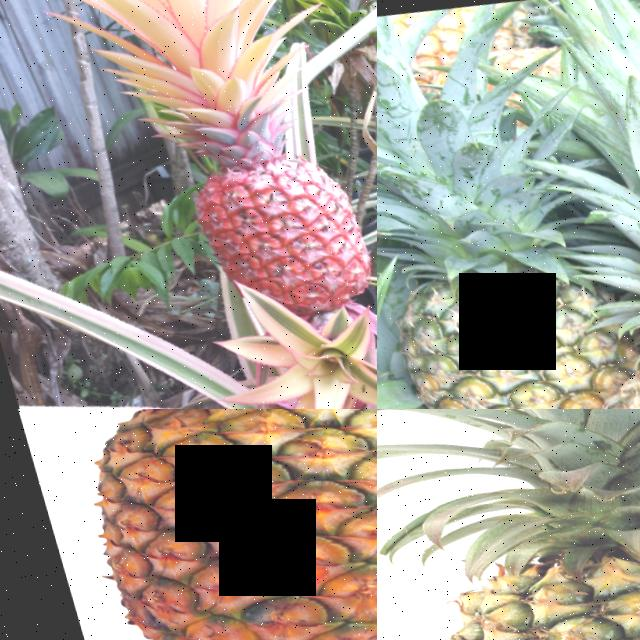pineapple: (3, 409, 377, 640), (377, 409, 640, 640), (377, 182, 615, 409), (158, 86, 377, 324)
